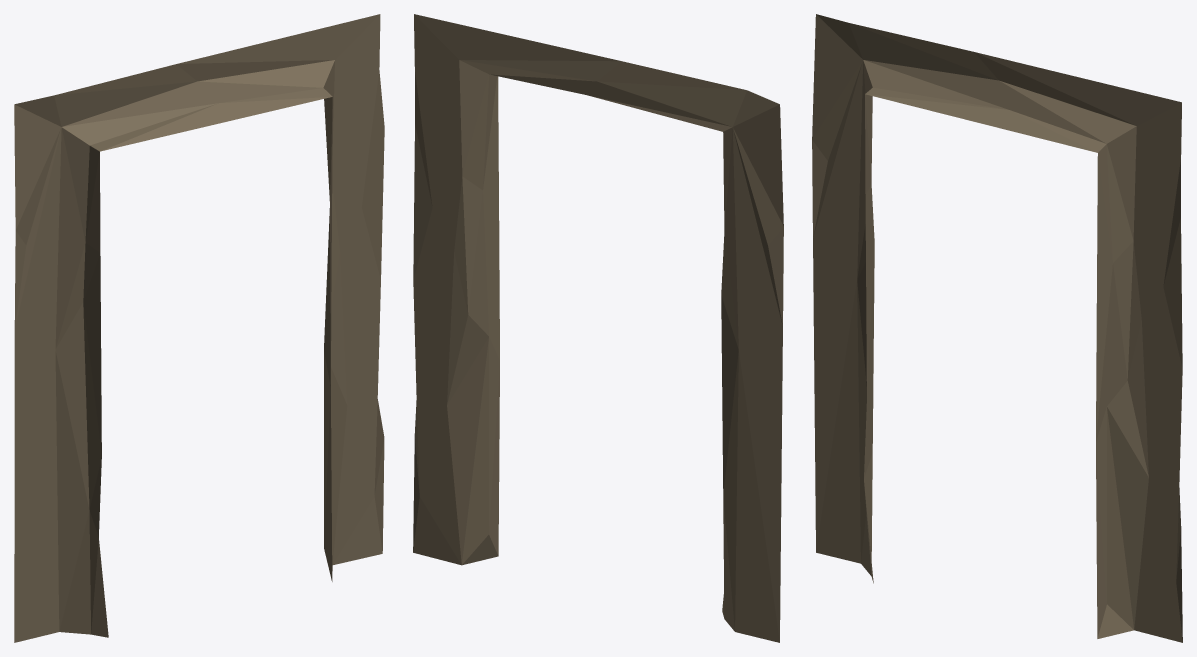
The model's file is Door_2_2_low.fbx.
3 renders of one model, left to right at view 1: azimuth 30°, elevation 25°; view 2: azimuth 150°, elevation 25°; view 3: azimuth 330°, elevation 25°, orthographic.
Visible parts, largest first — view 1: Door_2_2_low; view 2: Door_2_2_low; view 3: Door_2_2_low.
Boxes of the visible parts, x1,y1,x2,y2 form: Door_2_2_low: (14,14,384,642); Door_2_2_low: (413,14,783,642); Door_2_2_low: (812,14,1182,642).
Bounding box in the file's own units: 1.75 × 2.46 × 0.1506.
